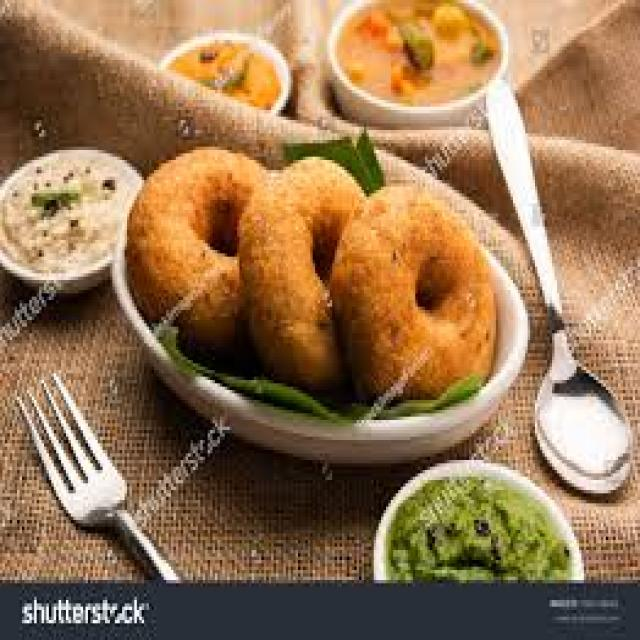MEDU VADA: (335, 174, 502, 402), (124, 148, 281, 341), (235, 159, 375, 375)
